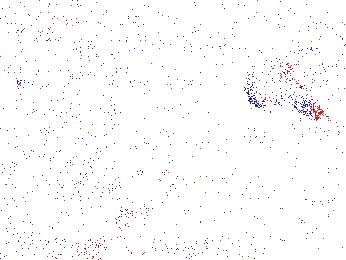flame jellyfish: (243, 55, 323, 120), (74, 161, 134, 214), (14, 163, 76, 212)
